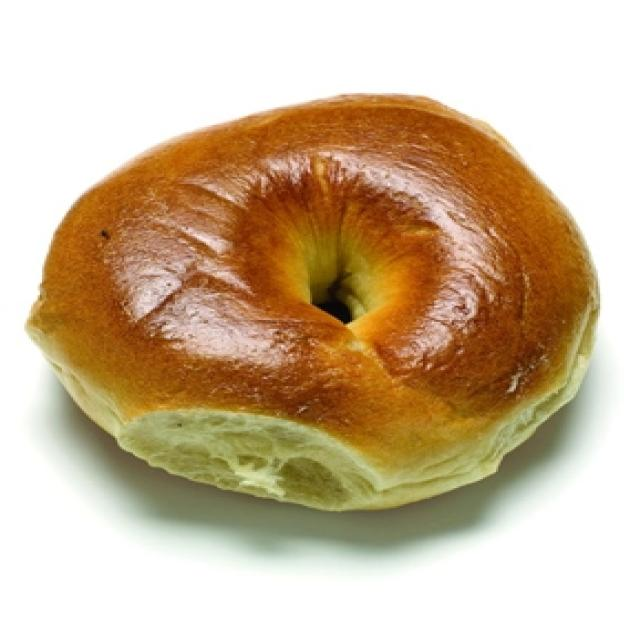面包点心: (29, 93, 600, 511)
